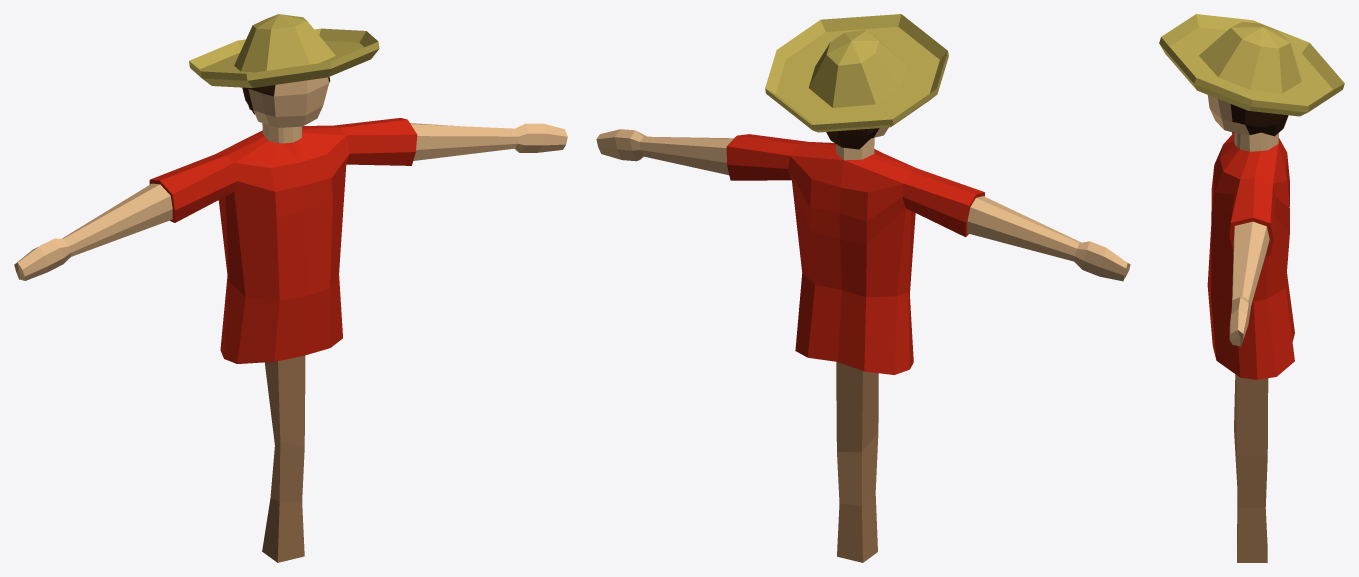
Rendered from Scarecrow_1.fbx.
3 views of the same model, side by side, from view 1: azimuth 30°, elevation 25°; view 2: azimuth 150°, elevation 25°; view 3: azimuth 270°, elevation 25° (orthographic). The views are drawn at different scales.
Parts seen in each view (by area): view 1: Scarecrow1_mesh; view 2: Scarecrow1_mesh; view 3: Scarecrow1_mesh.
Part boxes in pixels (bbox=[...]): Scarecrow1_mesh: bbox=[14, 14, 567, 562]; Scarecrow1_mesh: bbox=[596, 14, 1130, 562]; Scarecrow1_mesh: bbox=[1159, 14, 1344, 562].
Bounding box in the file's own units: 190 × 177 × 56.29.
